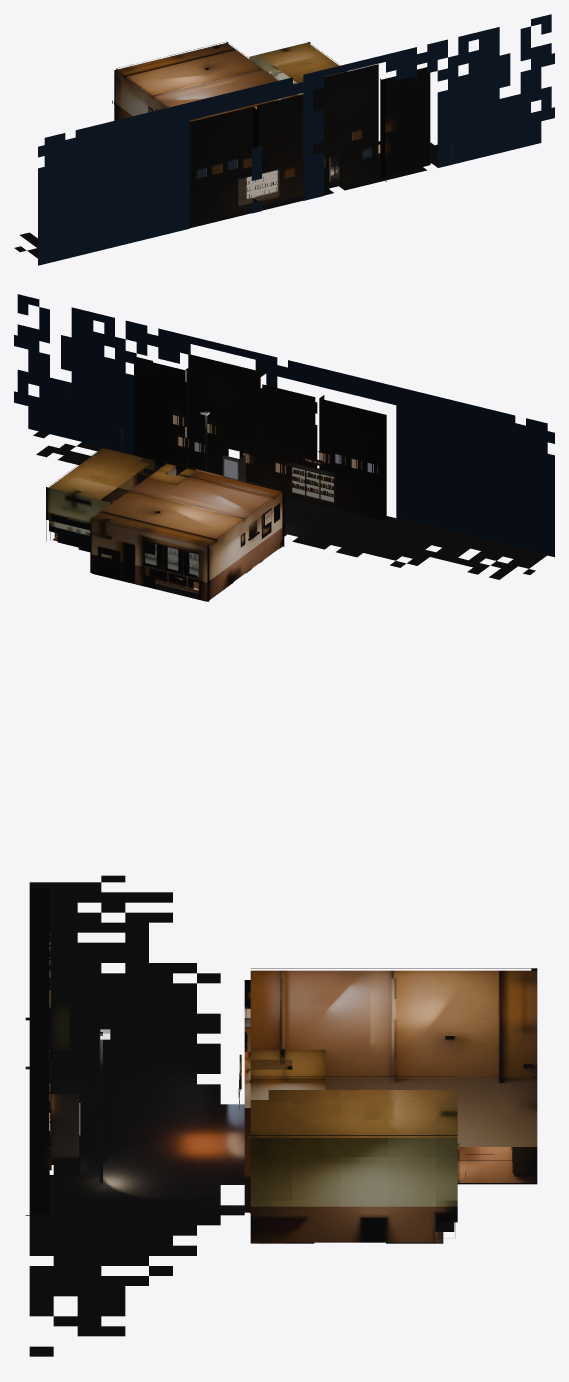
3 views of the same model, one above another, from view 1: azimuth 30°, elevation 25°; view 2: azimuth 150°, elevation 25°; view 3: azimuth 270°, elevation 25° (orthographic). The views are drawn at different scales.
Parts seen in each view (by area): view 1: room1, room0, room2; view 2: room1, room0, room2; view 3: room2, room1, room0.
Boxes of the visible parts, <box> form: room1: <box>38,14,554,265</box>; room0: <box>206,42,378,205</box>; room2: <box>14,65,437,258</box>; room1: <box>14,294,554,601</box>; room0: <box>46,354,377,598</box>; room2: <box>33,395,547,589</box>; room2: <box>29,875,510,1356</box>; room1: <box>25,945,537,1243</box>; room0: <box>29,918,537,1243</box>.
Bounding box in the file's own units: 30 × 7 × 13.
8 materials, 8 textured.
